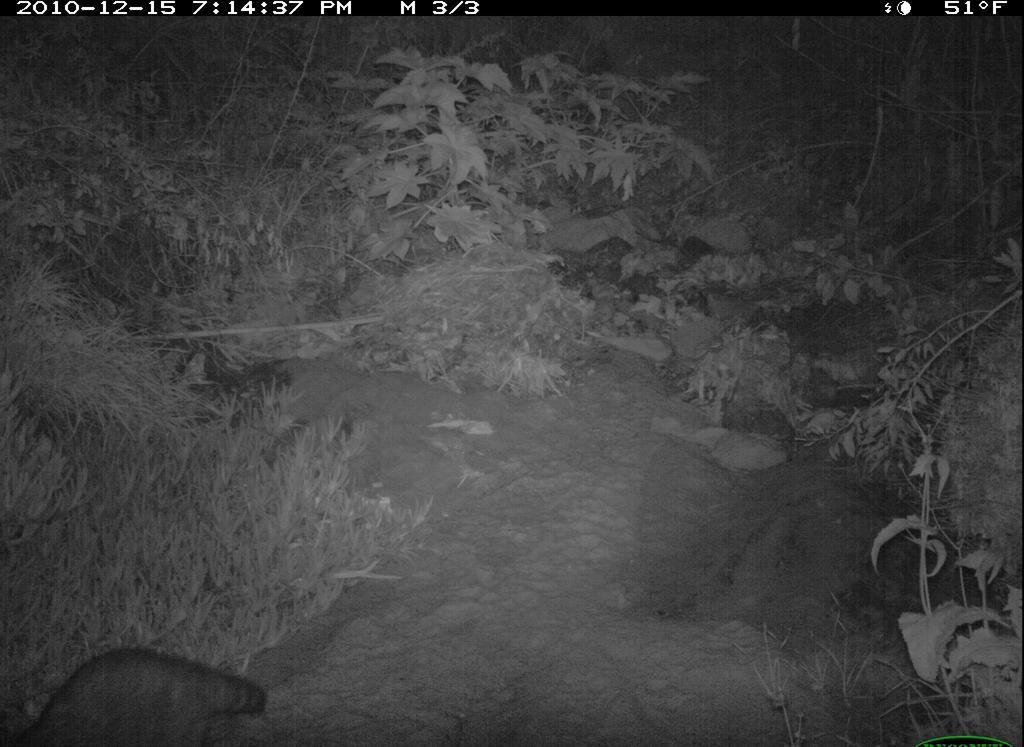raccoon: (1, 626, 274, 745)
